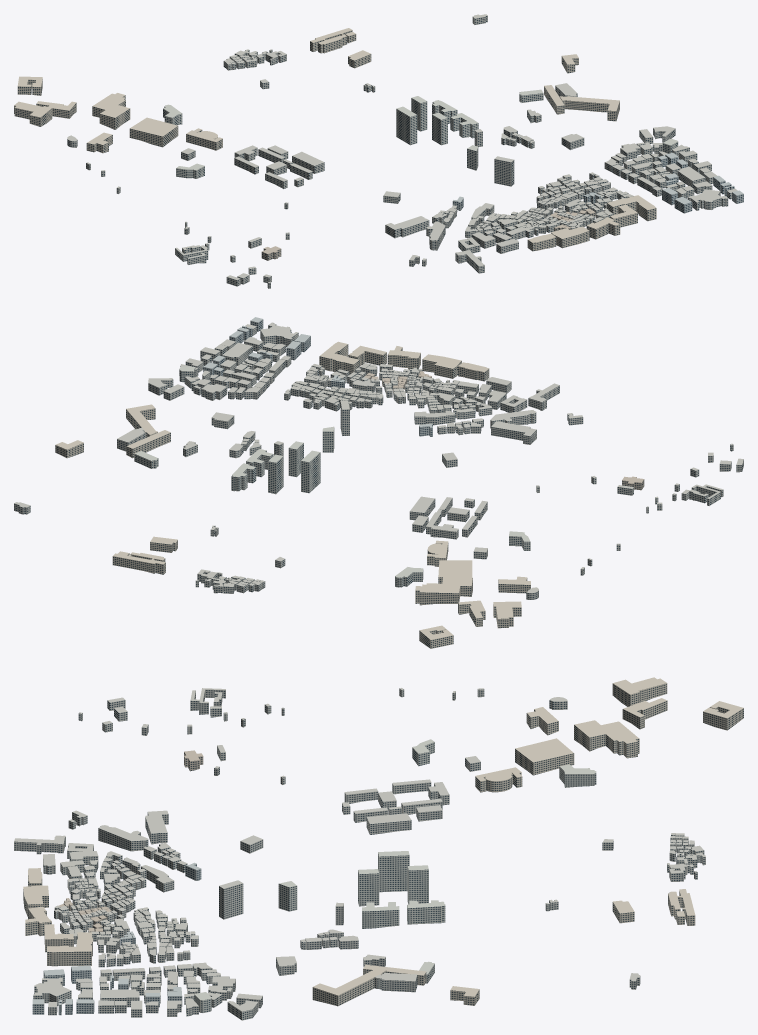
File: city_-2_-5.glb
3 renders of one model, top to bottom at view 1: azimuth 30°, elevation 25°; view 2: azimuth 150°, elevation 25°; view 3: azimuth 270°, elevation 25°, orthographic. The views are drawn at different scales.
Size of the model in its own units: 1051 by 69.87 by 1037.
5 materials, 5 textured.
